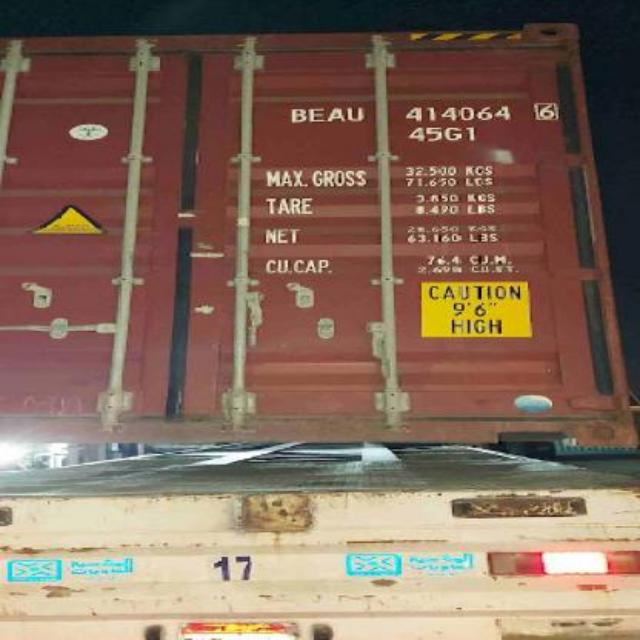0: (460, 105, 478, 123)
1: (426, 102, 442, 124)
4: (490, 102, 520, 122), (402, 106, 420, 124), (436, 103, 452, 121)
6: (526, 101, 568, 122), (472, 104, 496, 125)
A: (322, 100, 348, 124)
B: (280, 107, 308, 127)
E: (304, 102, 328, 126)
U: (344, 102, 374, 128)
